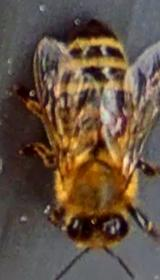varroa_mite: (100, 108, 128, 136)
